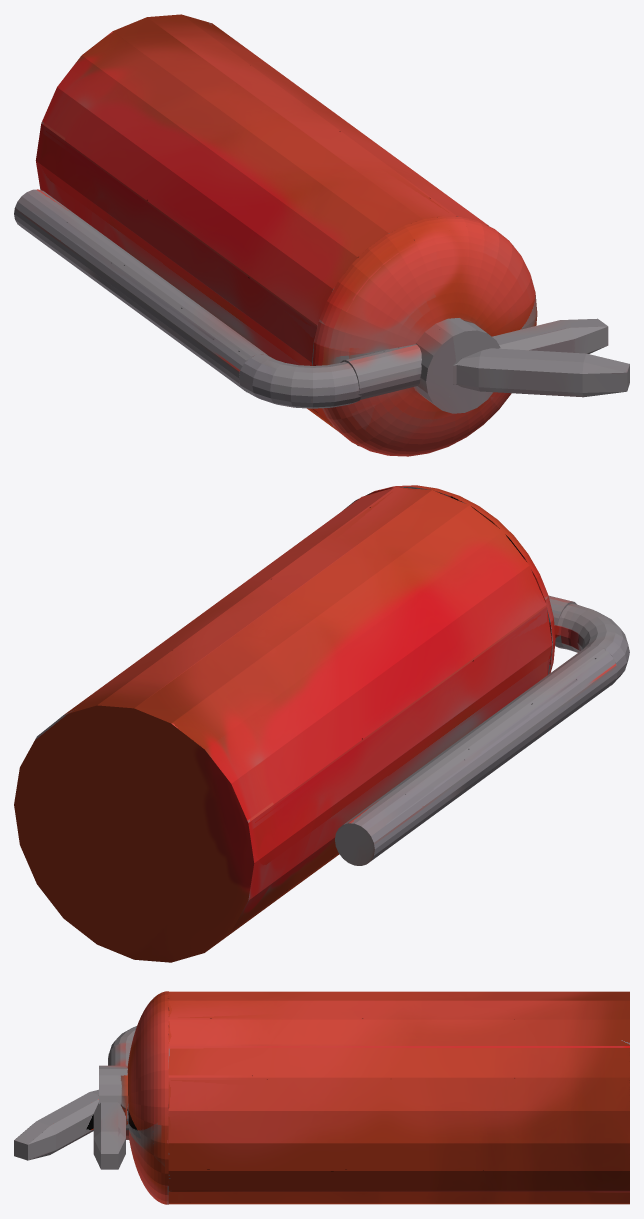
The model's file is Gaśnica.fbx.
The picture shows the model from 3 angles, top to bottom: view 1: azimuth 30°, elevation 25°; view 2: azimuth 150°, elevation 25°; view 3: azimuth 270°, elevation 25°; orthographic projection. The views are drawn at different scales.
Visible parts, largest first — view 1: obj_0; view 2: obj_0; view 3: obj_0.
Boxes of the visible parts, box(x1,y1,x2,y2) form: obj_0: box(14, 14, 629, 456); obj_0: box(14, 485, 629, 962); obj_0: box(14, 991, 629, 1204).
Bounding box in the file's own units: 5800 × 4000 × 11485.
